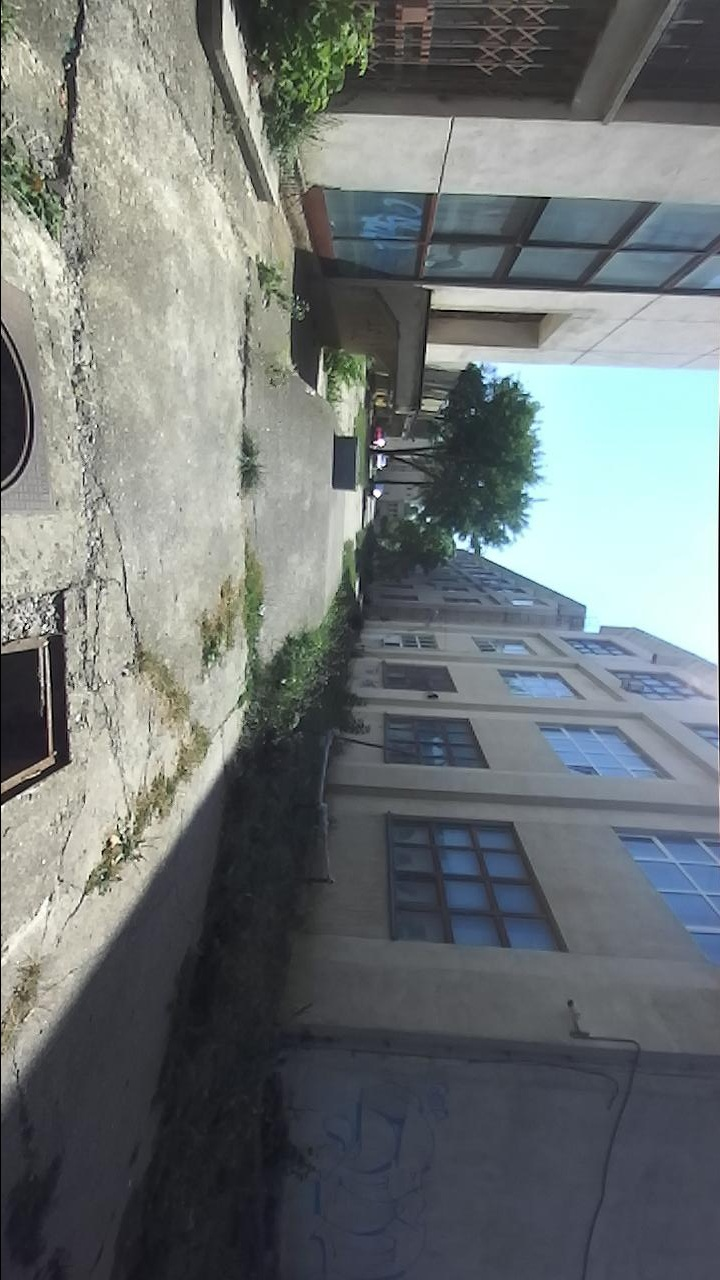drain: (0, 633, 79, 807), (0, 312, 41, 509)
